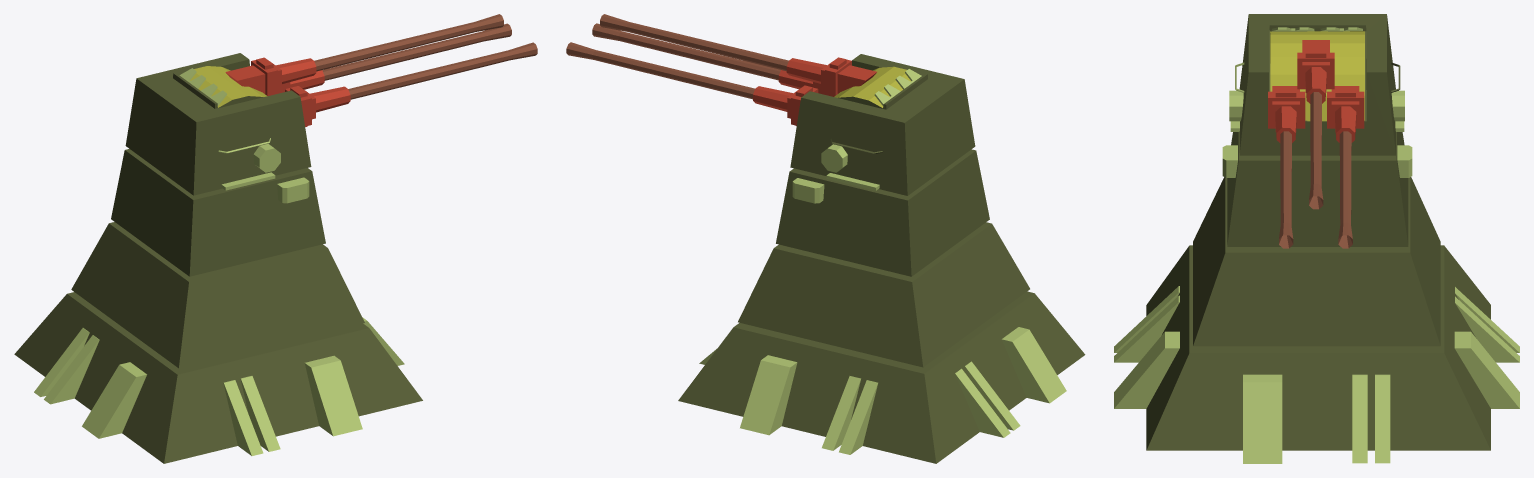
The model's file is Cannon-R-3.fbx.
The picture shows the model from 3 angles, left to right: view 1: azimuth 30°, elevation 25°; view 2: azimuth 150°, elevation 25°; view 3: azimuth 270°, elevation 25°; orthographic projection. The views are drawn at different scales.
Parts seen in each view (by area): view 1: russian_level1_7:base, russian_level1_5:attack; view 2: russian_level1_7:base, russian_level1_5:attack; view 3: russian_level1_7:base, russian_level1_5:attack.
Boxes of the visible parts, <box> form: russian_level1_7:base: <box>14,53,422,463</box>; russian_level1_5:attack: <box>225,14,537,126</box>; russian_level1_7:base: <box>678,54,1085,463</box>; russian_level1_5:attack: <box>566,14,876,125</box>; russian_level1_7:base: <box>1114,14,1519,463</box>; russian_level1_5:attack: <box>1268,40,1364,248</box>.
Bounding box in the file's own units: 1314 × 843 × 881.
